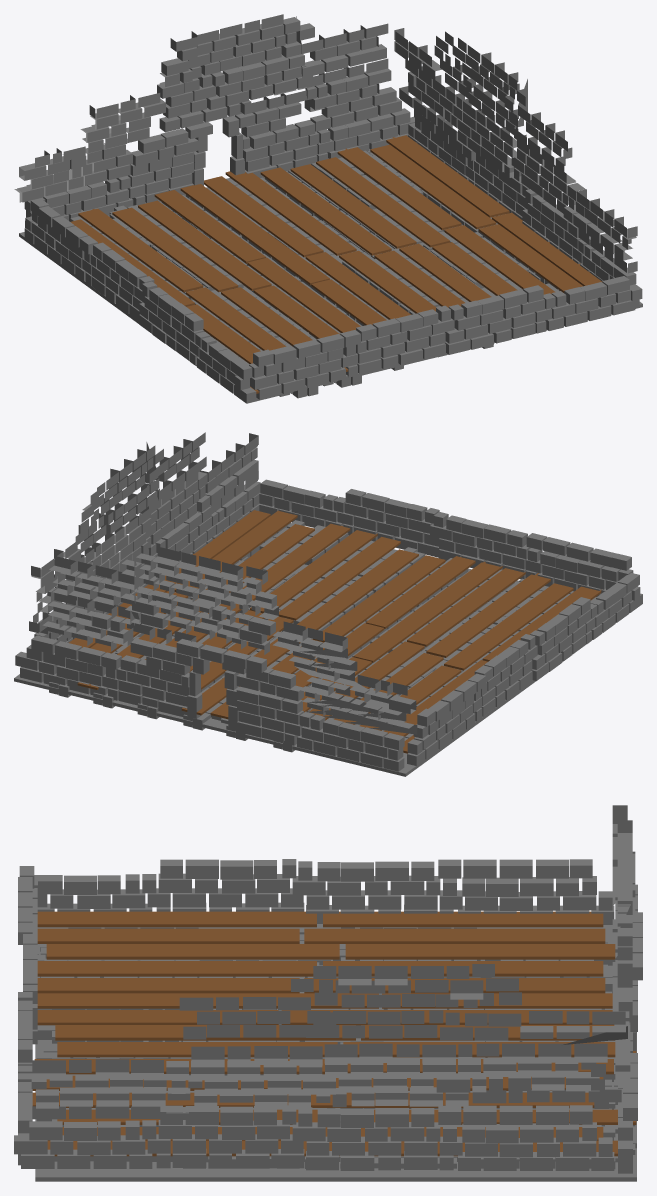
The model's file is map2.fbx.
3 views of the same model, one above another, from view 1: azimuth 30°, elevation 25°; view 2: azimuth 150°, elevation 25°; view 3: azimuth 270°, elevation 25° (orthographic). The views are drawn at different scales.
Parts seen in each view (by area): view 1: Cube.248, Cube; view 2: Cube.248, Cube; view 3: Cube.248, Cube.
Boxes of the visible parts, <box> form: Cube.248: <box>14,14,642,403</box>; Cube: <box>71,135,602,393</box>; Cube.248: <box>14,432,642,776</box>; Cube: <box>69,510,601,753</box>; Cube.248: <box>14,805,642,1181</box>; Cube: <box>32,911,636,1156</box>.
Bounding box in the file's own units: 4079 × 1684 × 4182.
